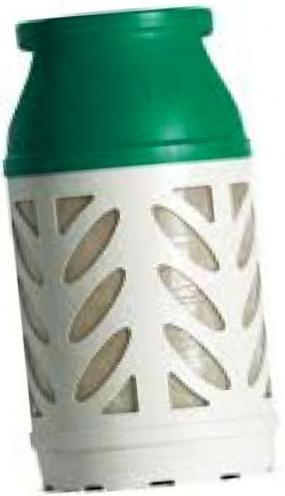cylinder: (1, 1, 285, 496)
